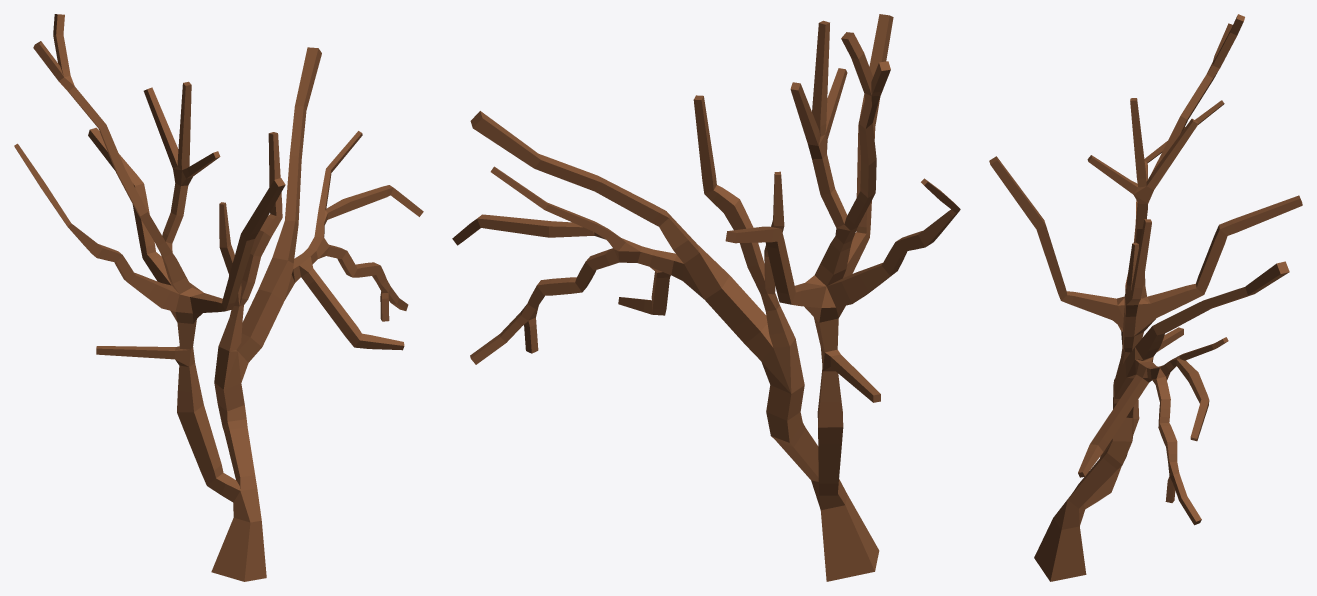
File: Baum4_Einzelobjekt.fbx
3 views of the same model, side by side, from view 1: azimuth 30°, elevation 25°; view 2: azimuth 150°, elevation 25°; view 3: azimuth 270°, elevation 25° (orthographic). The views are drawn at different scales.
Parts seen in each view (by area): view 1: Baum.007; view 2: Baum.007; view 3: Baum.007.
Boxes of the visible parts, x1=… form: Baum.007: x1=14, y1=14, x2=423, y2=581; Baum.007: x1=452, y1=14, x2=960, y2=581; Baum.007: x1=989, y1=14, x2=1302, y2=581.
Size of the model in its own units: 405 by 511 by 283.
